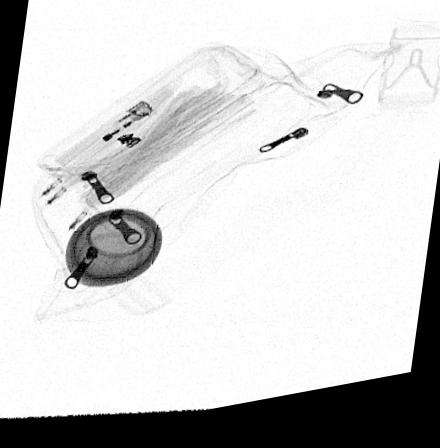Lighter: (54, 107, 156, 171)
